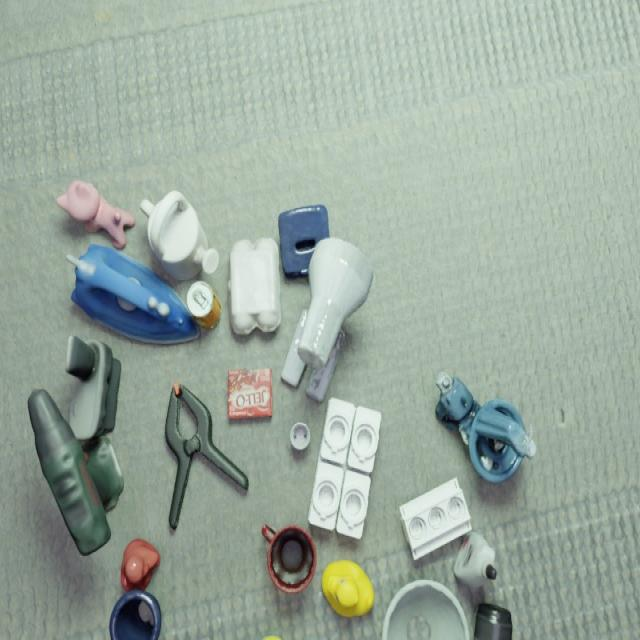Other Objects: (165, 384, 248, 528), (435, 372, 534, 483), (141, 191, 218, 280), (400, 479, 471, 559), (56, 180, 134, 248), (382, 580, 470, 639), (229, 237, 280, 335), (262, 525, 316, 593), (279, 205, 329, 277), (321, 560, 373, 613), (109, 589, 161, 639), (453, 531, 496, 589), (228, 368, 271, 419), (120, 539, 159, 591), (290, 423, 310, 451), (486, 564, 496, 579)
